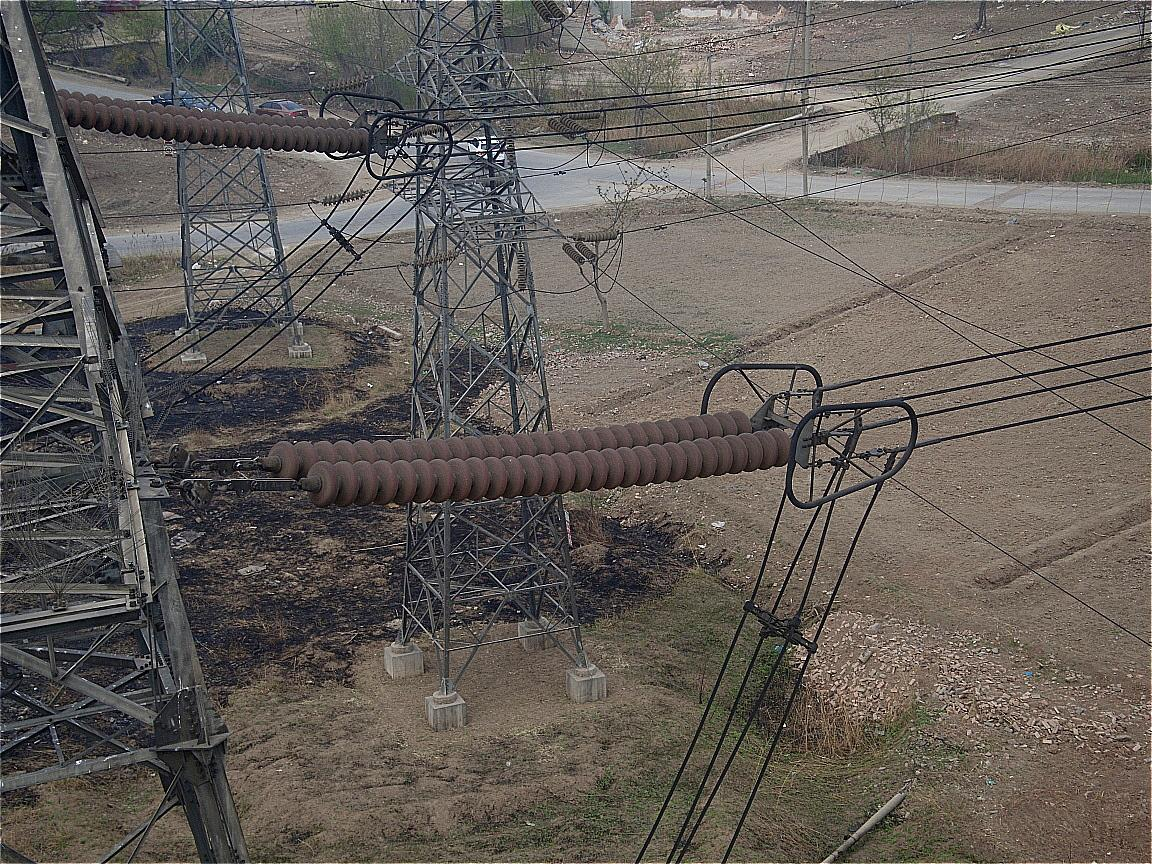insultor1: (269, 410, 794, 510), (57, 87, 375, 160)
